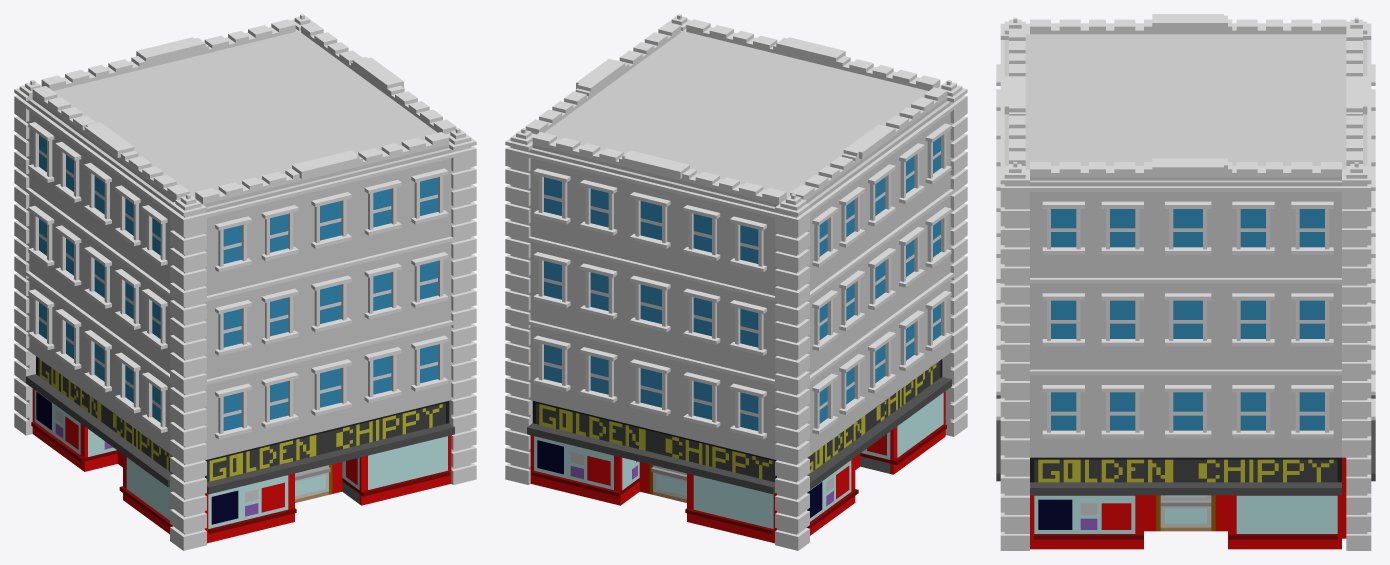
File: obj_store03_White.obj
3 views of the same model, side by side, from view 1: azimuth 30°, elevation 25°; view 2: azimuth 150°, elevation 25°; view 3: azimuth 270°, elevation 25° (orthographic). The views are drawn at different scales.
Size of the model in its own units: 9 by 10 by 9.
Materials: 1 (1 with a texture image).
